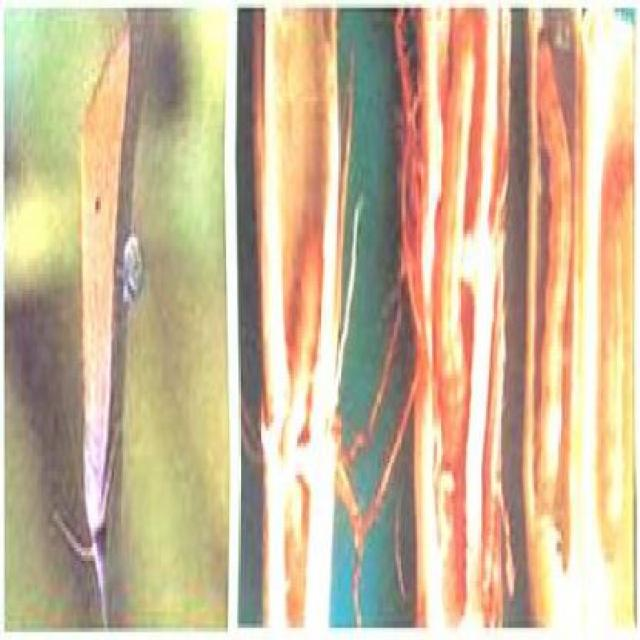stem-borer: (70, 14, 124, 621)
